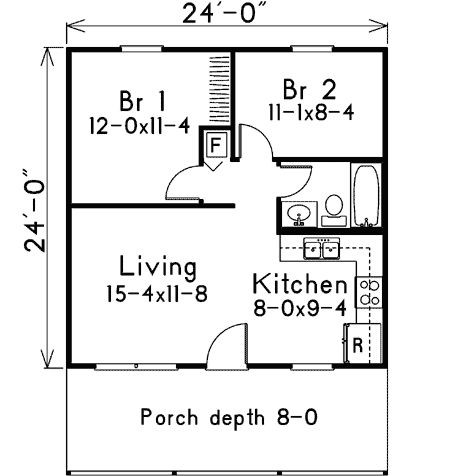door: (204, 311, 249, 371), (156, 159, 207, 201), (237, 115, 274, 156), (276, 158, 308, 195)
room: (62, 199, 390, 372), (58, 39, 235, 208), (227, 36, 391, 157), (274, 152, 389, 232)
wall: (61, 44, 76, 370), (381, 46, 391, 370), (72, 199, 235, 210), (271, 154, 385, 168), (226, 52, 240, 163), (274, 225, 388, 237), (162, 44, 292, 54), (248, 357, 294, 379), (71, 45, 119, 59), (330, 361, 391, 372), (178, 354, 205, 375), (330, 43, 386, 52), (63, 362, 93, 373), (274, 198, 282, 231)
window: (89, 350, 181, 377), (288, 34, 332, 62), (291, 354, 333, 380), (114, 39, 164, 59)
